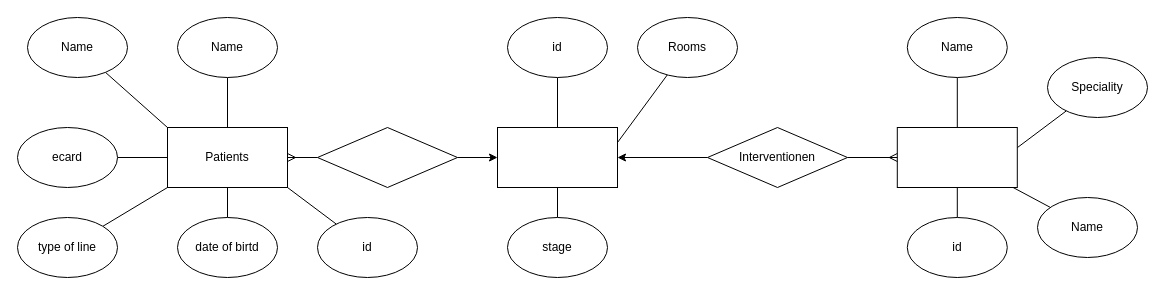
The diagram is 1165 pixels wide and 295 high, and some of its shapes have lost their labels. The shapes that lost their labels are listed below. From the top down, each one's box as (x1, y1, x2, y2) in pixels, then its label:
(316, 126, 458, 188): register
(496, 126, 618, 188): Unit
(896, 126, 1017, 188): Doctors
